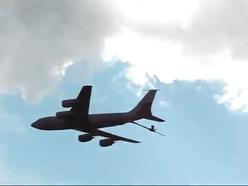aircraft: (30, 84, 166, 147)
